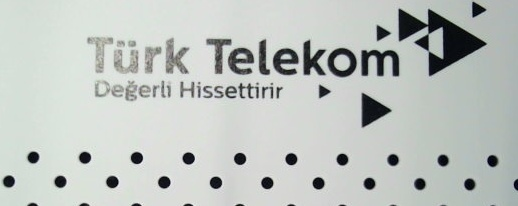AQ_TURKTelekom: (82, 1, 489, 130)
